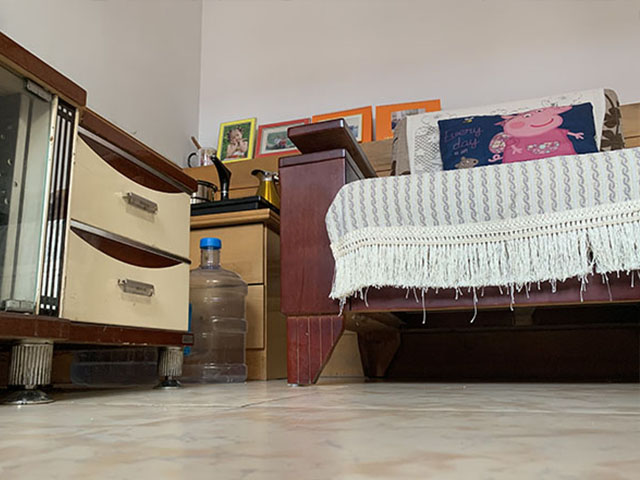cabinet: (12, 104, 196, 407)
sofa: (268, 101, 640, 387)
